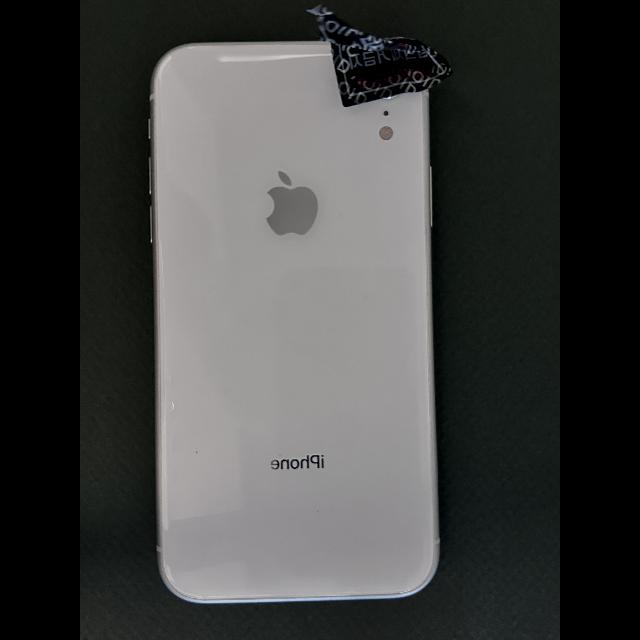phone: (149, 40, 440, 604)
sticker: (305, 3, 453, 108)
